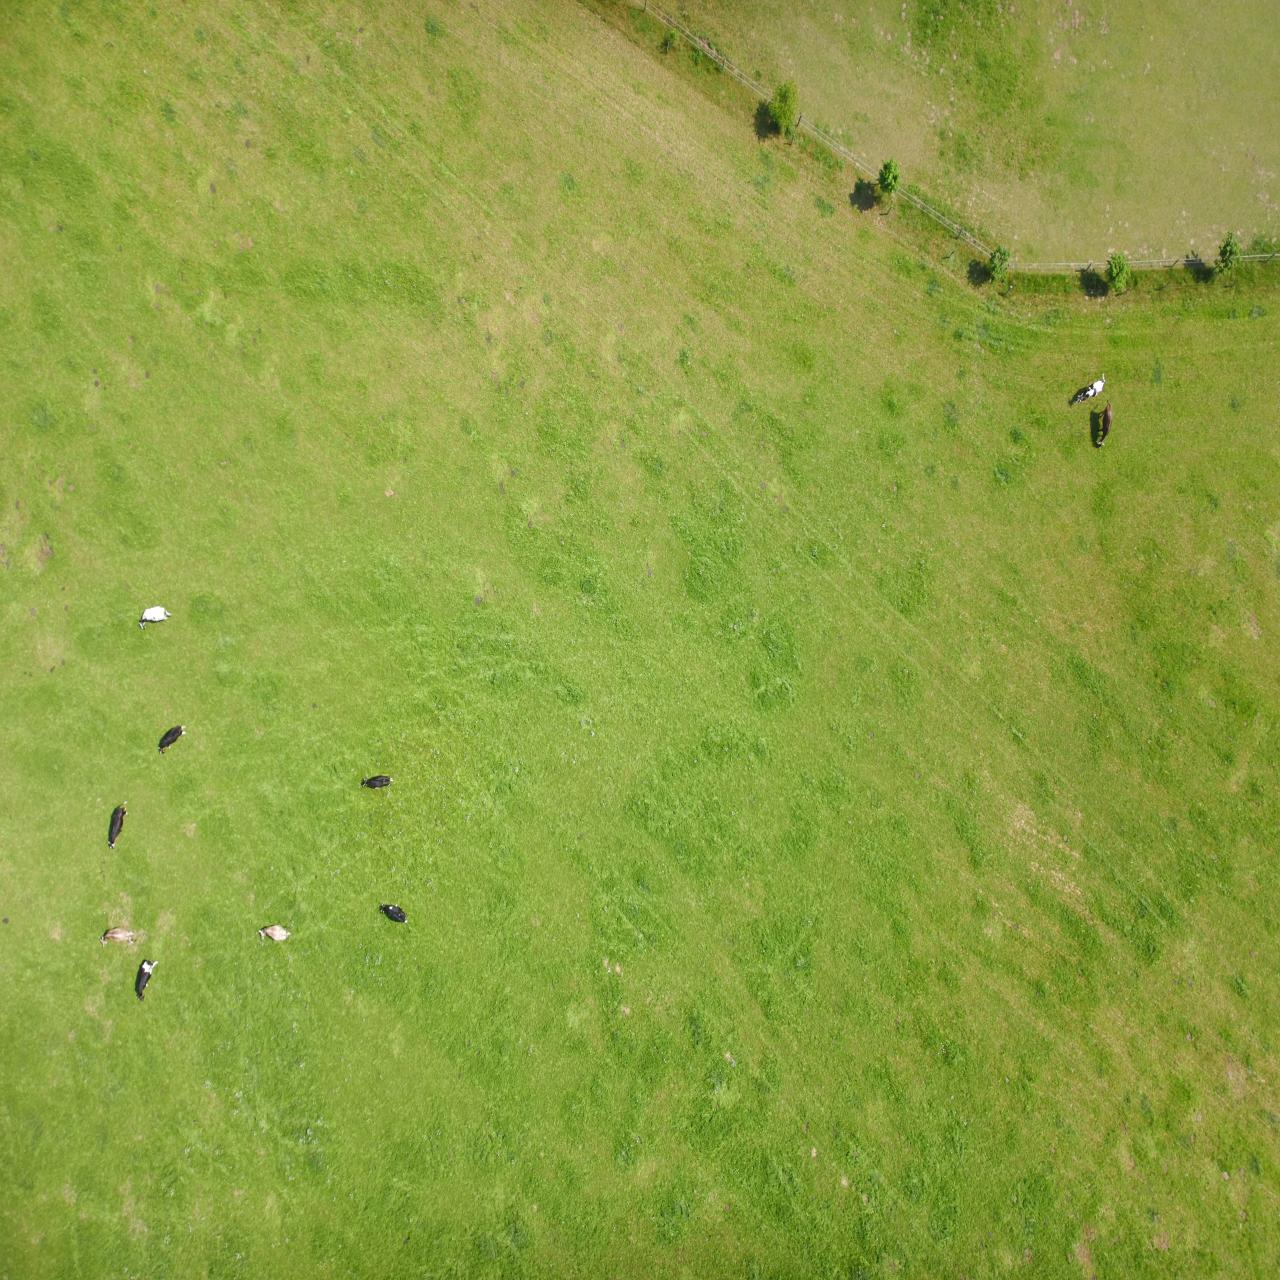cow: (1152, 430, 1172, 478), (1122, 278, 1144, 320), (173, 877, 203, 907), (1108, 651, 1142, 674), (1095, 526, 1122, 554), (1146, 332, 1180, 353), (166, 832, 182, 879), (989, 339, 1021, 355), (872, 358, 899, 376), (886, 490, 917, 504)
